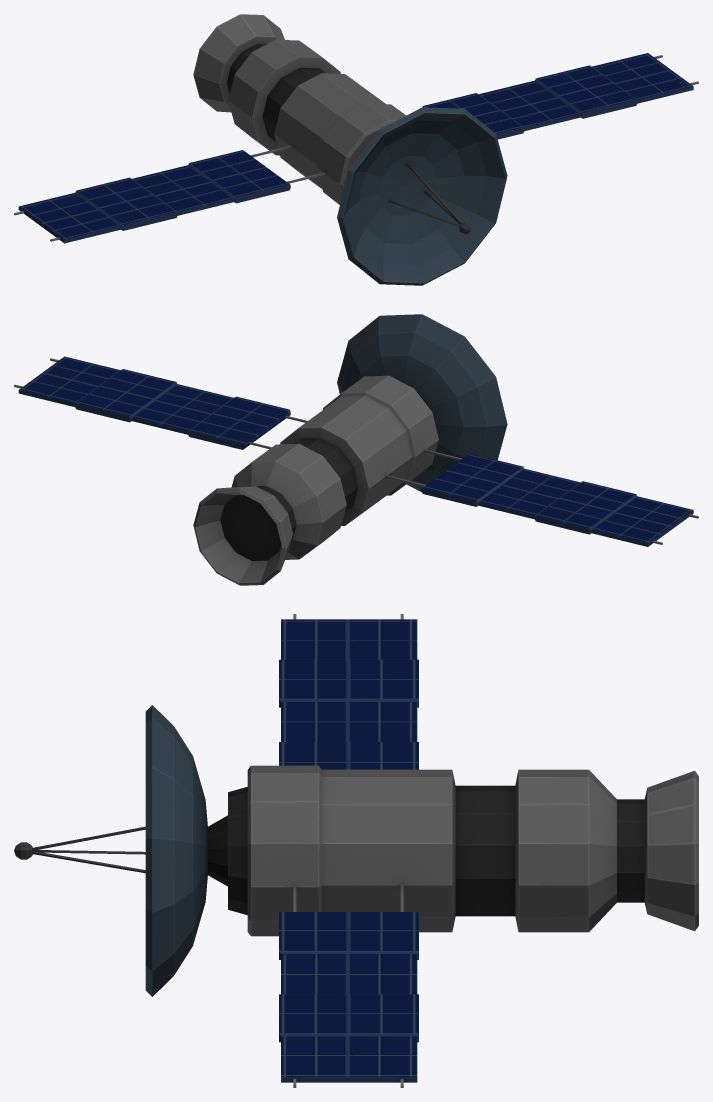
Rendered from Satellite(1).gltf.
The picture shows the model from 3 angles, top to bottom: view 1: azimuth 30°, elevation 25°; view 2: azimuth 150°, elevation 25°; view 3: azimuth 270°, elevation 25°; orthographic projection. The views are drawn at different scales.
Visible parts, largest first — view 1: node-0; view 2: node-0; view 3: node-0.
Boxes of the visible parts, x1,y1,x2,y2 form: node-0: (14,14,698,285); node-0: (14,314,698,585); node-0: (14,614,698,1087).
Bounding box in the file's own units: 41.03 × 10.8 × 25.21.
1 material, 1 textured.
